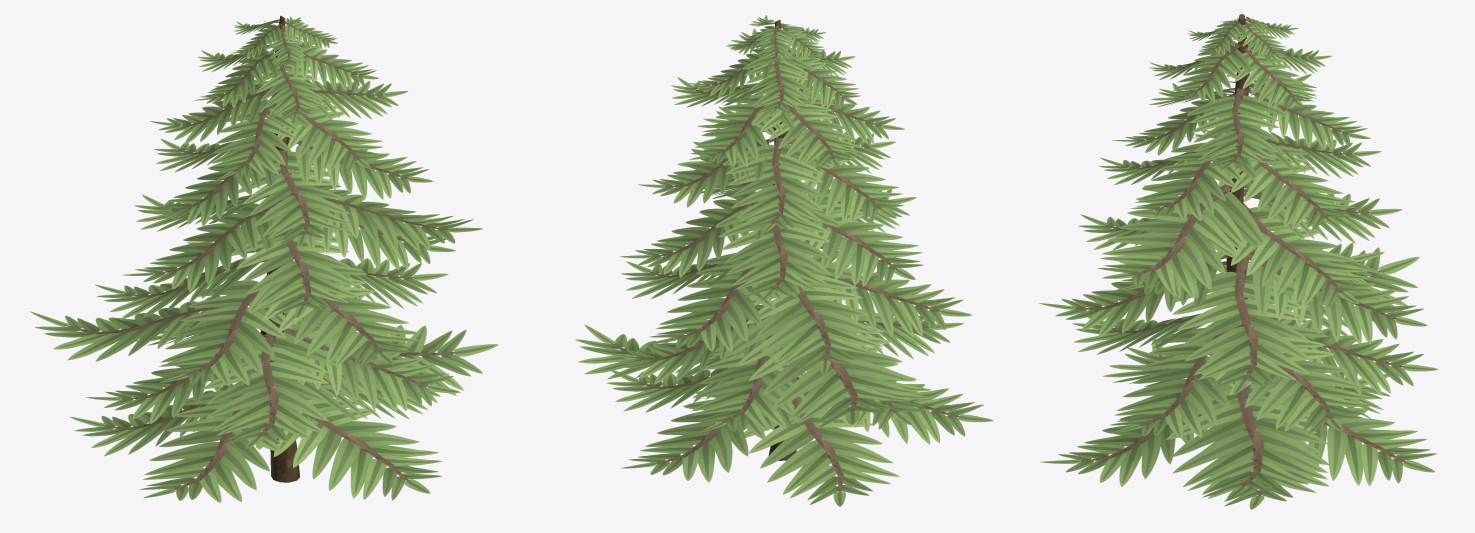
Rendered from Pine_1.glb.
3 renders of one model, left to right at view 1: azimuth 30°, elevation 25°; view 2: azimuth 150°, elevation 25°; view 3: azimuth 270°, elevation 25°, orthographic. The views are drawn at different scales.
Parts seen in each view (by area): view 1: Pine_1_Leaves, Pine_1; view 2: Pine_1_Leaves; view 3: Pine_1_Leaves, Pine_1.
Part boxes in pixels (x1,y1,x2,y2): Pine_1_Leaves: [29, 17, 498, 502]; Pine_1: [260, 15, 299, 482]; Pine_1_Leaves: [575, 15, 993, 506]; Pine_1_Leaves: [1038, 16, 1438, 509]; Pine_1: [1226, 14, 1249, 327].
Bounding box in the file's own units: 7.43 × 7.58 × 6.39.
2 materials, 2 textured.
